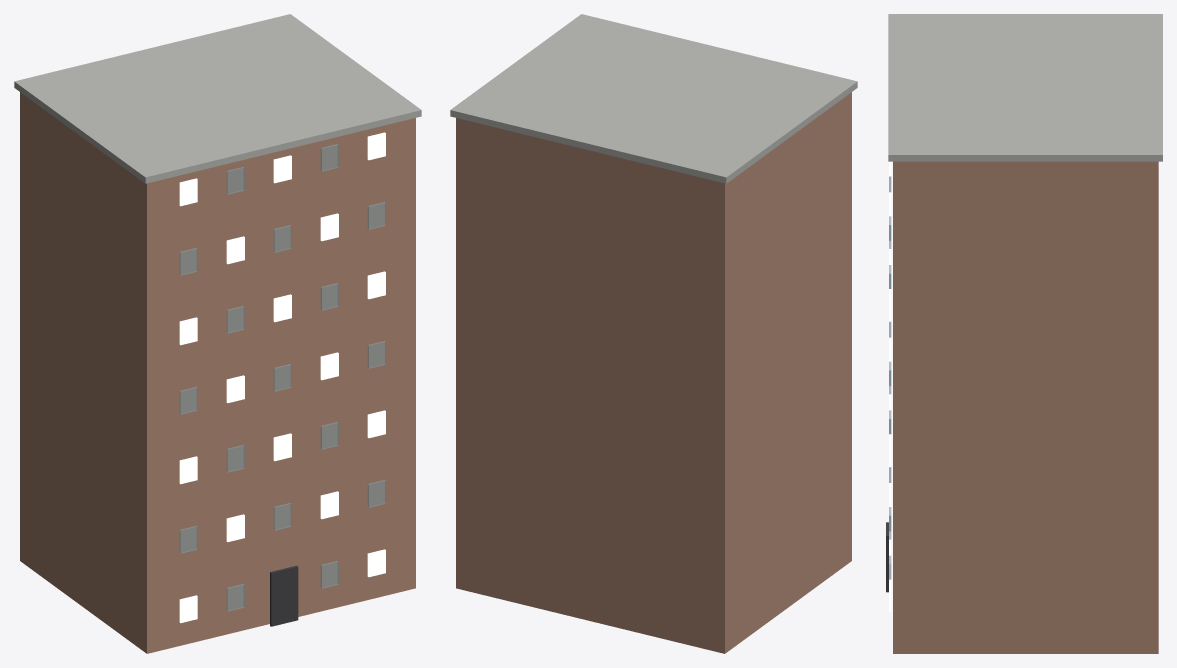
Rendered from building_mid_02.glb.
3 views of the same model, side by side, from view 1: azimuth 30°, elevation 25°; view 2: azimuth 150°, elevation 25°; view 3: azimuth 270°, elevation 25° (orthographic). The views are drawn at different scales.
Visible parts, largest first — view 1: Mass.003, Roof.003, Door.003; view 2: Mass.003, Roof.003; view 3: Mass.003, Roof.003.
Boxes of the visible parts, left/top/right/bottom form: Mass.003: left=20, top=92, right=415, bottom=653; Roof.003: left=14, top=14, right=421, bottom=183; Door.003: left=270, top=565, right=298, bottom=626; Mass.003: left=456, top=92, right=851, bottom=653; Roof.003: left=450, top=14, right=857, bottom=183; Mass.003: left=893, top=161, right=1158, bottom=653; Roof.003: left=888, top=14, right=1162, bottom=161.
Size of the model in its own units: 11.3 by 18.73 by 9.38.
